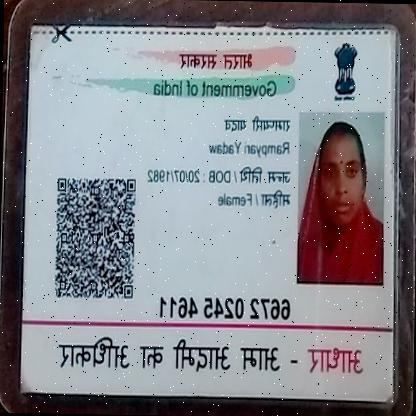aadhaar_card: (16, 14, 401, 407)
